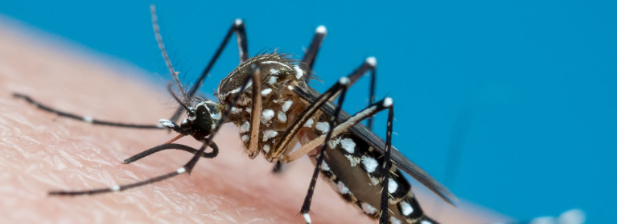dengue_mosquito: (49, 17, 459, 223)
